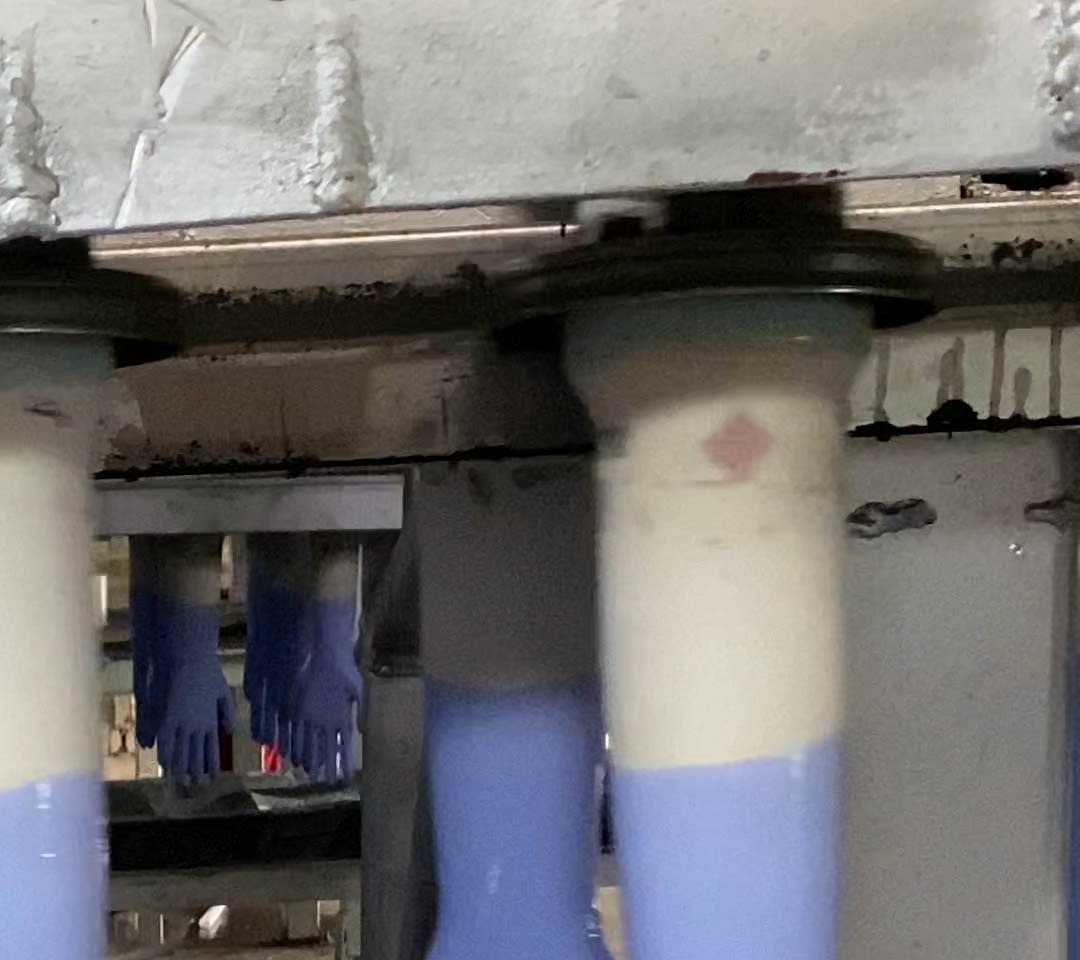glove: (281, 602, 358, 785), (158, 605, 236, 784)
